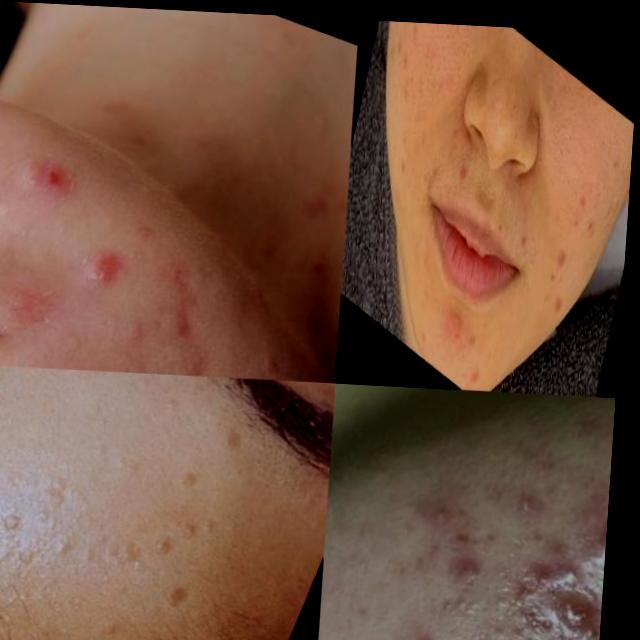8: (66, 222, 138, 297), (438, 516, 505, 593), (541, 573, 611, 640), (577, 491, 616, 573), (517, 539, 573, 589), (409, 598, 474, 640), (472, 344, 493, 384)
blackheads: (146, 236, 239, 350), (574, 166, 595, 217), (552, 275, 571, 320), (556, 226, 575, 271), (393, 69, 413, 110), (390, 36, 412, 68), (400, 16, 423, 34)
dark spot: (608, 135, 630, 181)
